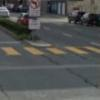crosswalks: (1, 46, 100, 56)
